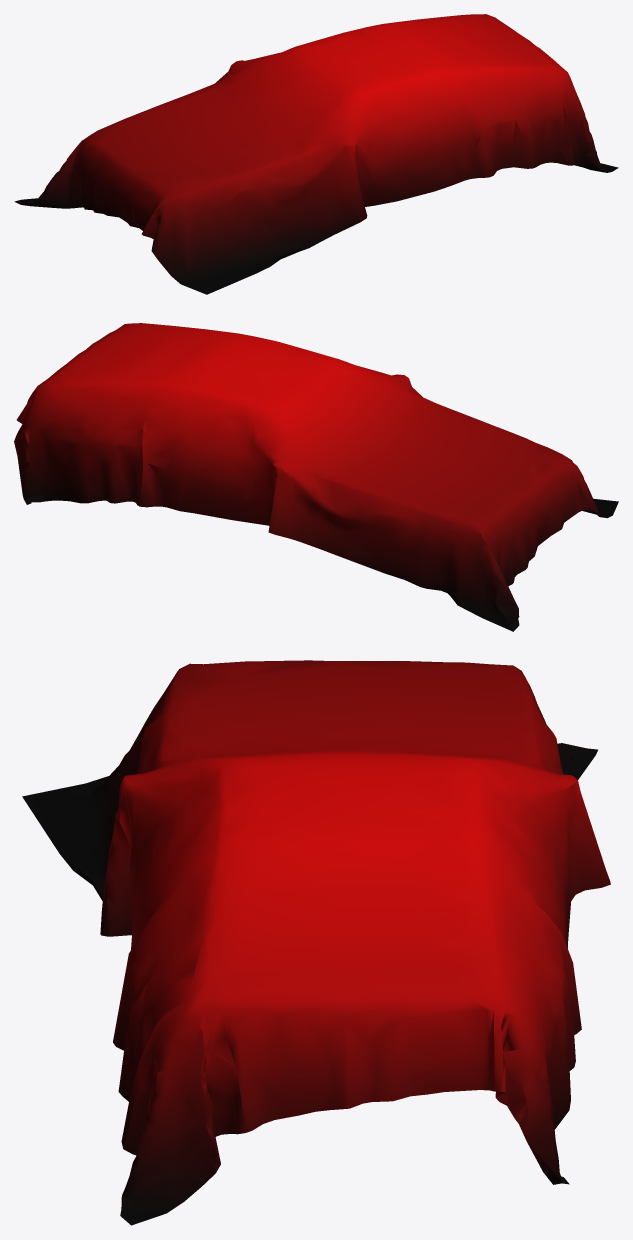
File: SM_Car_Retro_Cover.fbx
3 views of the same model, one above another, from view 1: azimuth 30°, elevation 25°; view 2: azimuth 150°, elevation 25°; view 3: azimuth 270°, elevation 25° (orthographic). The views are drawn at different scales.
Parts seen in each view (by area): view 1: normal1; view 2: normal1; view 3: normal1.
Part boxes in pixels (left/top/right/bottom): normal1: left=14, top=14, right=618, bottom=294; normal1: left=14, top=323, right=618, bottom=631; normal1: left=22, top=660, right=610, bottom=1225.
Size of the model in its own units: 193 by 45.75 by 101.
